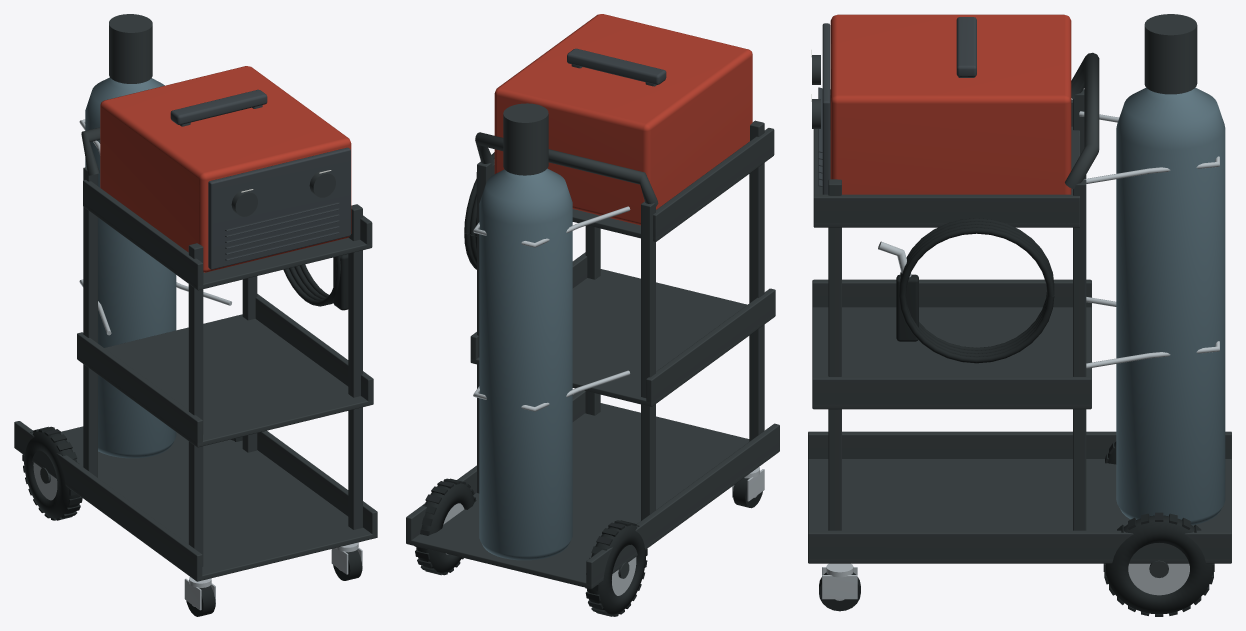
File: garage-welding-cart.glb
3 views of the same model, side by side, from view 1: azimuth 30°, elevation 25°; view 2: azimuth 150°, elevation 25°; view 3: azimuth 270°, elevation 25° (orthographic). The views are drawn at different scales.
Parts seen in each view (by area): view 1: garage-welding-cart authored assembly; view 2: garage-welding-cart authored assembly; view 3: garage-welding-cart authored assembly.
Boxes of the visible parts, <box> form: garage-welding-cart authored assembly: <box>14,14,377,616</box>; garage-welding-cart authored assembly: <box>406,14,779,616</box>; garage-welding-cart authored assembly: <box>808,14,1231,616</box>.
Bounding box in the file's own units: 0.5 × 1.1 × 0.78.
